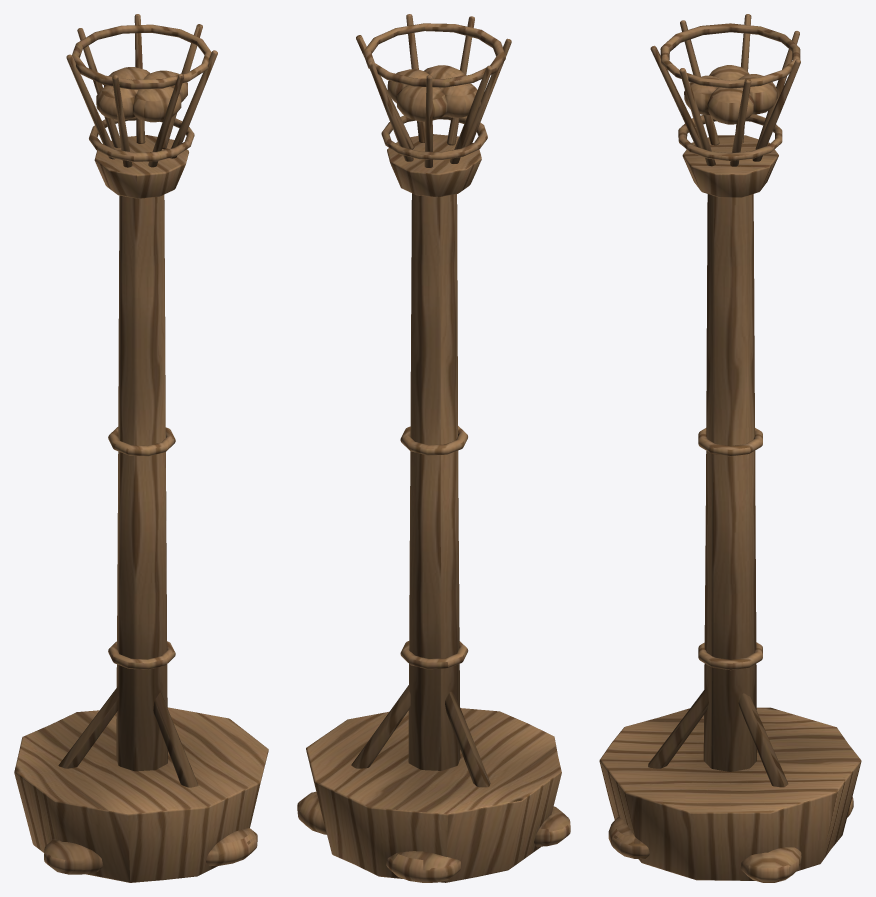
File: p_torchpost.glb
The picture shows the model from 3 angles, left to right: view 1: azimuth 30°, elevation 25°; view 2: azimuth 150°, elevation 25°; view 3: azimuth 270°, elevation 25°; orthographic projection.
Parts seen in each view (by area): view 1: torchpost; view 2: torchpost; view 3: torchpost.
Boxes of the visible parts, x1,y1,x2,y2 form: torchpost: (14,14,268,882); torchpost: (297,14,570,882); torchpost: (599,14,861,882).
Size of the model in its own units: 0.8035 by 2.67 by 0.8.
Materials: 1 (1 with a texture image).
